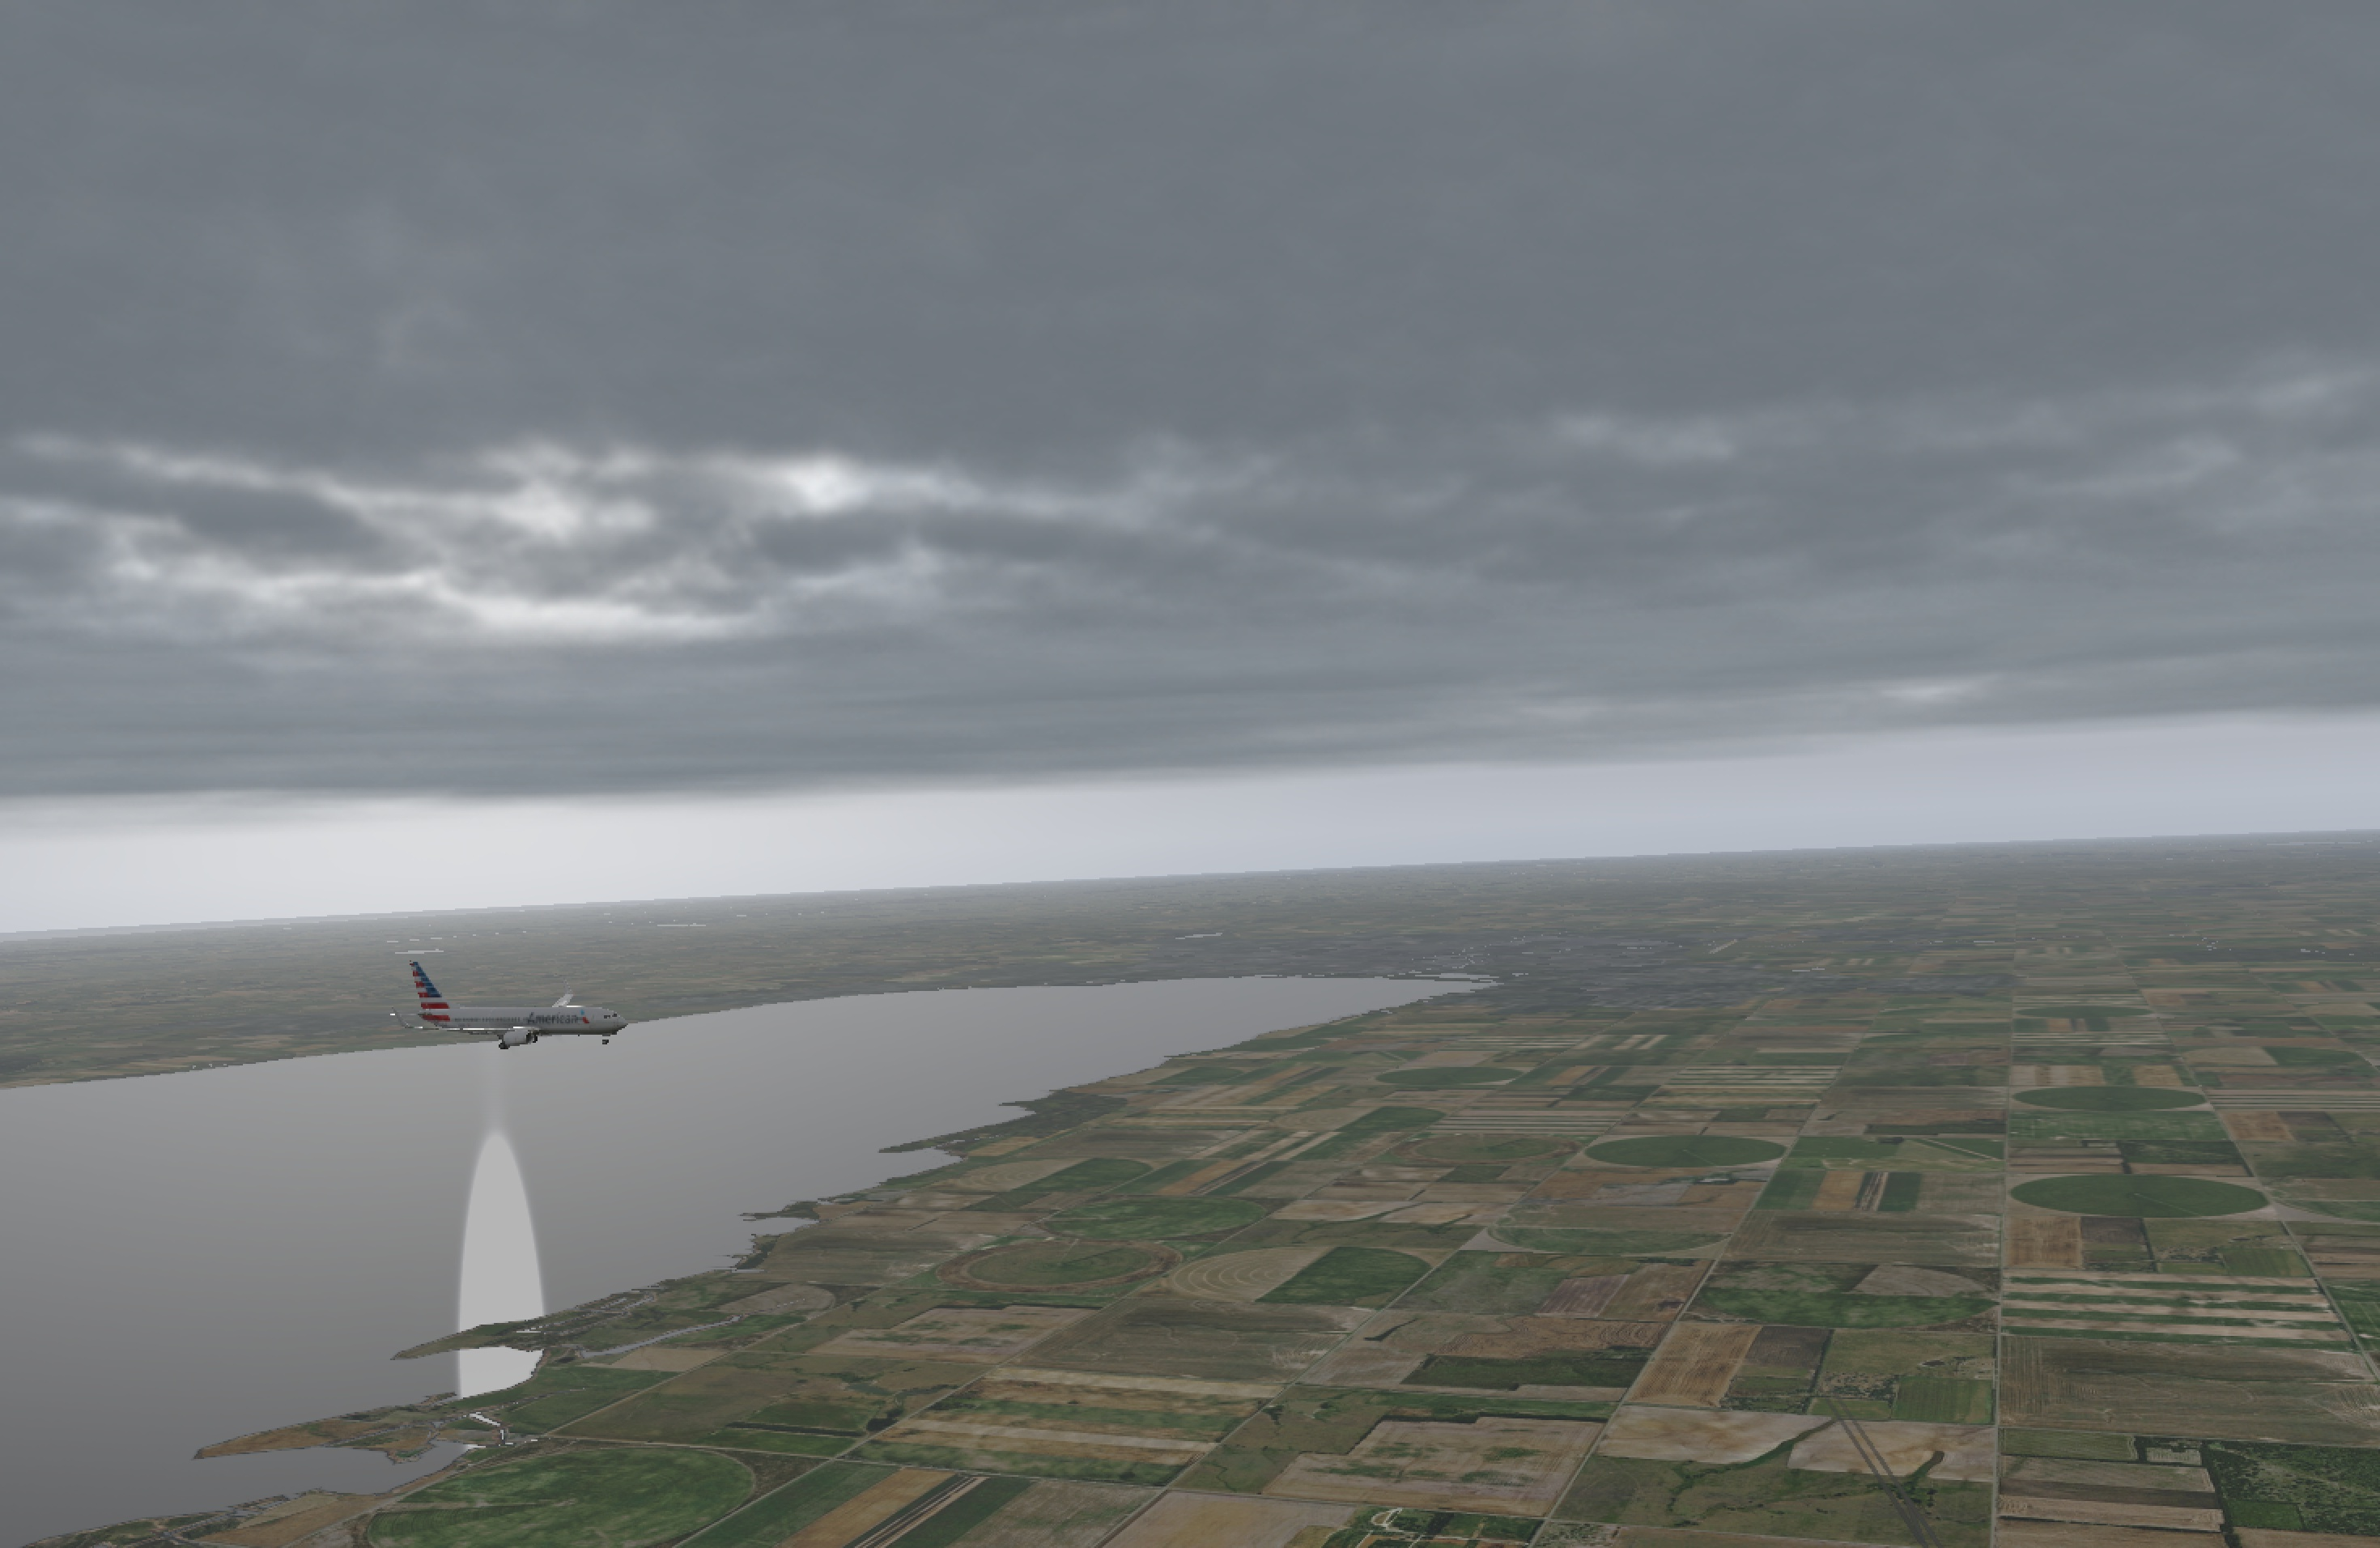aircraft: (397, 977, 654, 1072)
